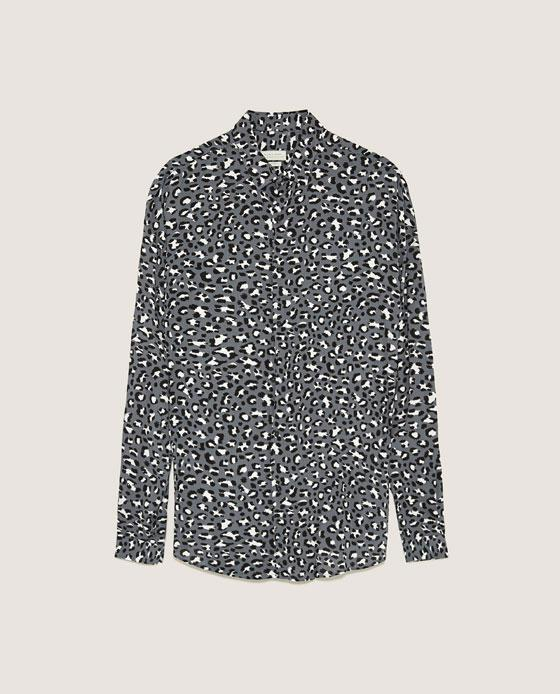teeshirt: (112, 109, 456, 584)
